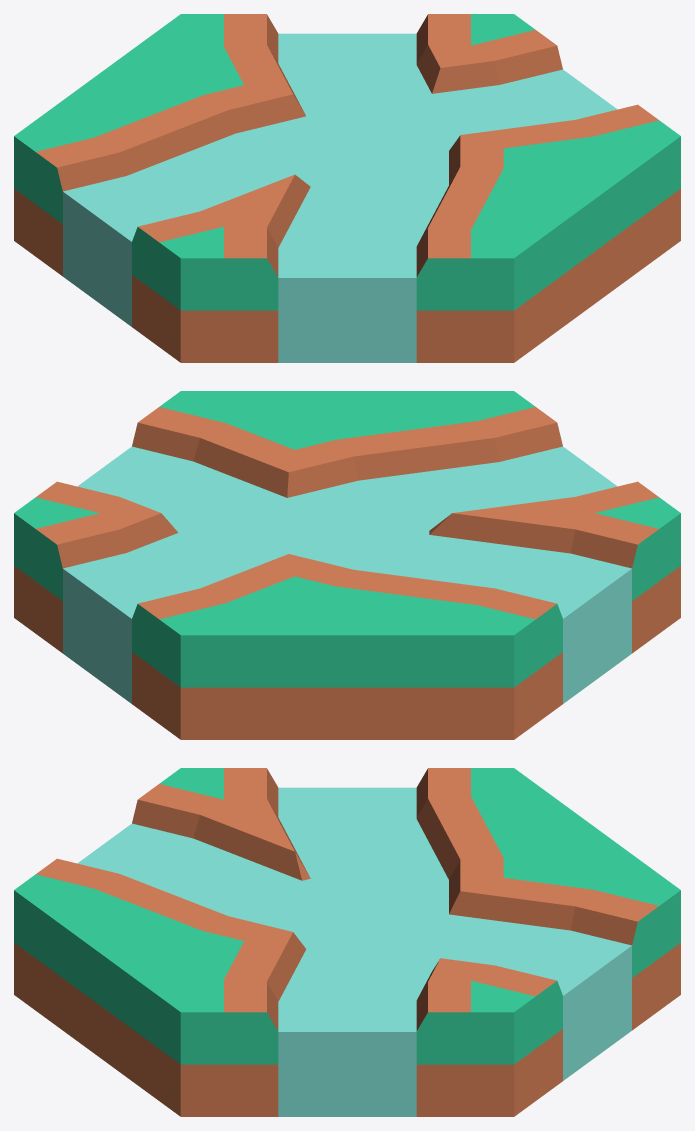
File: river_intersectionE.dae
The picture shows the model from 3 angles, top to bottom: view 1: azimuth 30°, elevation 25°; view 2: azimuth 150°, elevation 25°; view 3: azimuth 270°, elevation 25°; orthographic projection.
Visible parts, largest first — view 1: river_intersectionE; view 2: river_intersectionE; view 3: river_intersectionE.
Boxes of the visible parts, left/top/right/bottom form: river_intersectionE: left=14, top=14, right=680, bottom=362; river_intersectionE: left=14, top=391, right=680, bottom=739; river_intersectionE: left=14, top=768, right=680, bottom=1116.
Bounding box in the file's own units: 1 × 0.2 × 1.15.
